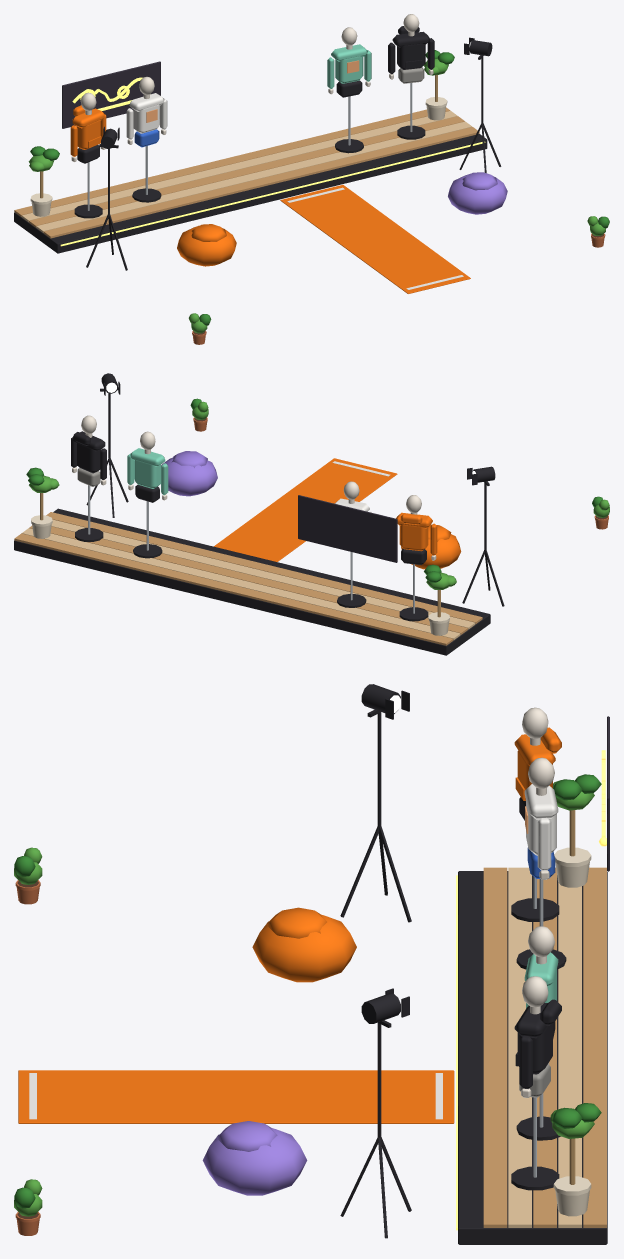
File: einrichtung_showroom.glb
3 renders of one model, top to bottom at view 1: azimuth 30°, elevation 25°; view 2: azimuth 150°, elevation 25°; view 3: azimuth 270°, elevation 25°, orthographic. The views are drawn at different scales.
Visible parts, largest first — view 1: einrichtung_showroom; view 2: einrichtung_showroom; view 3: einrichtung_showroom.
Boxes of the visible parts, box(x1,y1,x2,y2) form: einrichtung_showroom: box(14, 14, 609, 344); einrichtung_showroom: box(14, 373, 609, 655); einrichtung_showroom: box(14, 684, 609, 1244).
Size of the model in its own units: 6.8 by 1.99 by 4.78.
